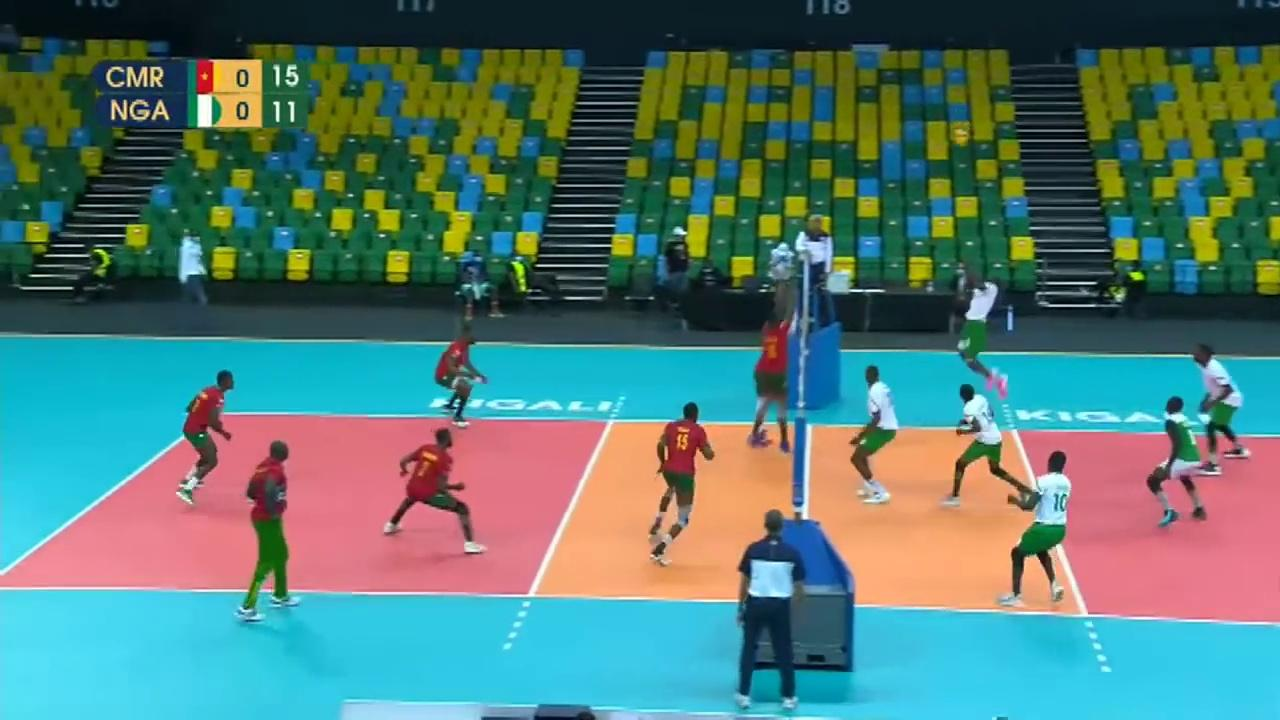player: (999, 453, 1086, 605), (385, 428, 488, 551), (649, 404, 717, 565), (940, 384, 1026, 506), (1151, 396, 1216, 523), (179, 374, 236, 504), (1194, 346, 1252, 468), (850, 367, 901, 501), (751, 303, 794, 458), (957, 268, 1005, 394), (435, 321, 488, 424)
refree: (737, 509, 811, 710), (798, 216, 833, 316)
